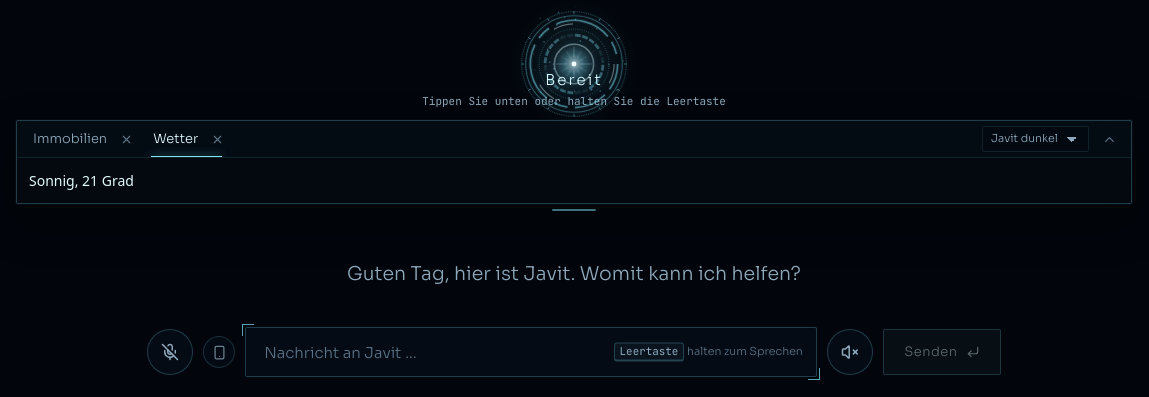
Test: Bühne in der Konsole › Reiter je Fläche, Wechsel und kleiner Orb
Expected: the text "Sonnig, 21 Grad" is shown, [29,171,134,190]
Click the tab "Immobilien": (67, 139) [21,121,113,157]
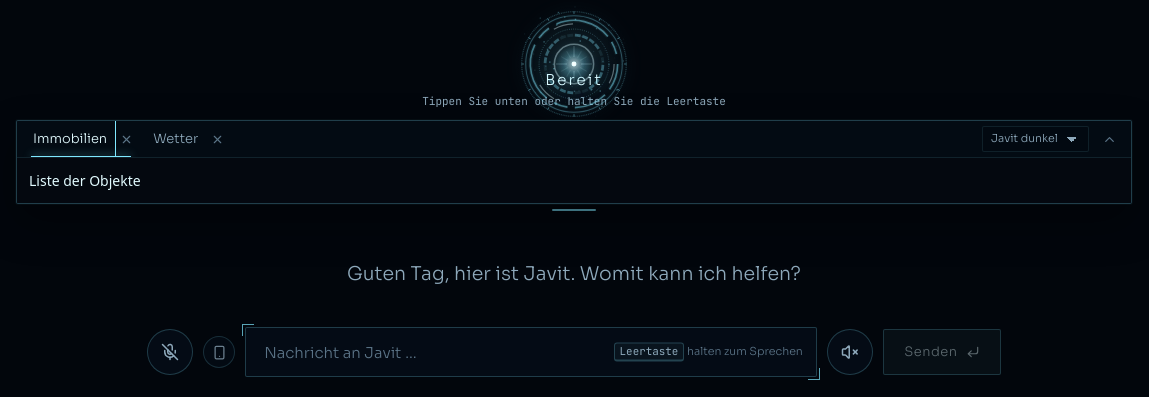
Expected: the message "Bereit Tippen Sie unten oder halten Sie die Leertaste" is shown, [422,68,726,108]
Result: the text "Liste der Objekte" is shown at [29,171,141,190]
Result: the text "Sonnig, 21 Grad" is gone
